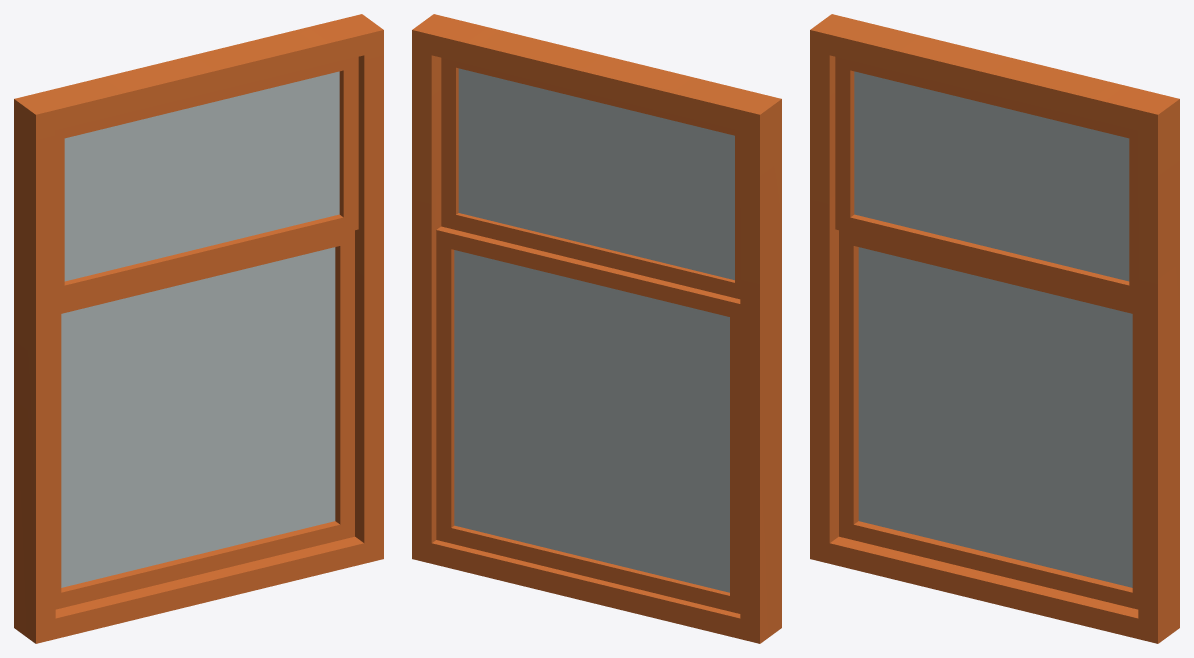
File: cuaso1.fbx
3 views of the same model, side by side, from view 1: azimuth 30°, elevation 25°; view 2: azimuth 150°, elevation 25°; view 3: azimuth 330°, elevation 25° (orthographic).
Visible parts, largest first — view 1: cuaso1; view 2: cuaso1; view 3: cuaso1.
Boxes of the visible parts, left/top/right/bottom form: cuaso1: left=14, top=14, right=383, bottom=643; cuaso1: left=412, top=14, right=781, bottom=643; cuaso1: left=810, top=14, right=1179, bottom=643.
Bounding box in the file's own units: 200 × 291 × 21.66.
